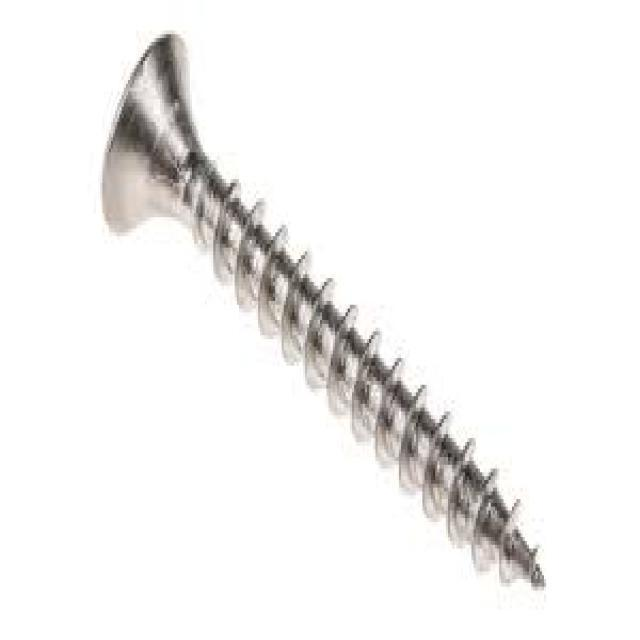Screw: (105, 34, 546, 587)
